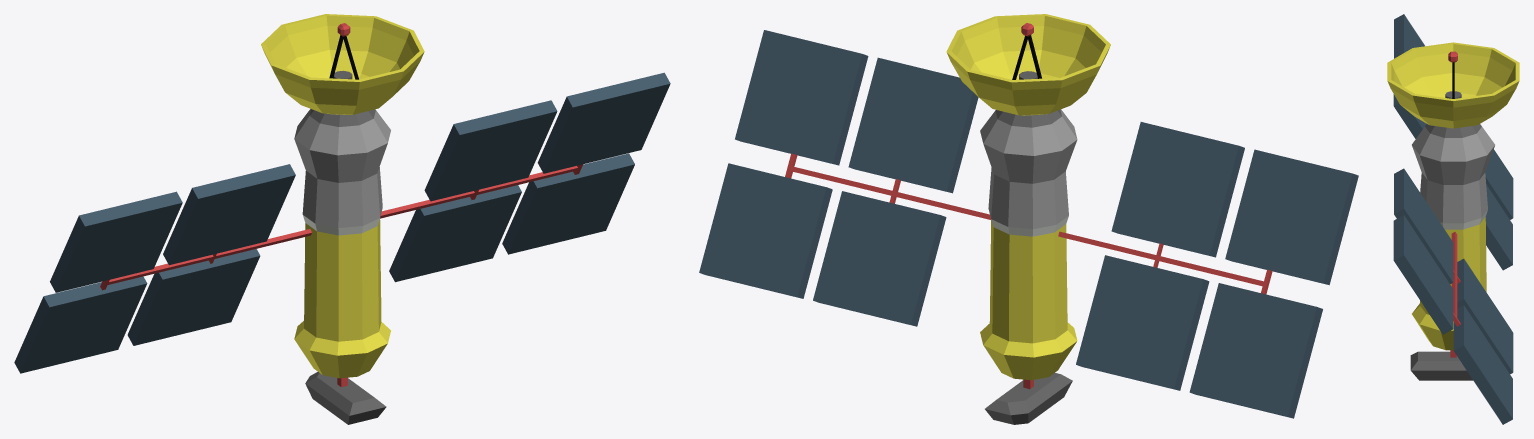
File: satellite_model_darkblue.fbx
3 views of the same model, side by side, from view 1: azimuth 30°, elevation 25°; view 2: azimuth 150°, elevation 25°; view 3: azimuth 270°, elevation 25° (orthographic). The views are drawn at different scales.
Visible parts, largest first — view 1: satellite; view 2: satellite; view 3: satellite.
Boxes of the visible parts, x1,y1,x2,y2 form: satellite: [14, 14, 670, 424]; satellite: [699, 14, 1358, 424]; satellite: [1387, 14, 1519, 424].
Size of the model in its own units: 13.64 by 8.5 by 3.16.
1 material, 1 textured.
